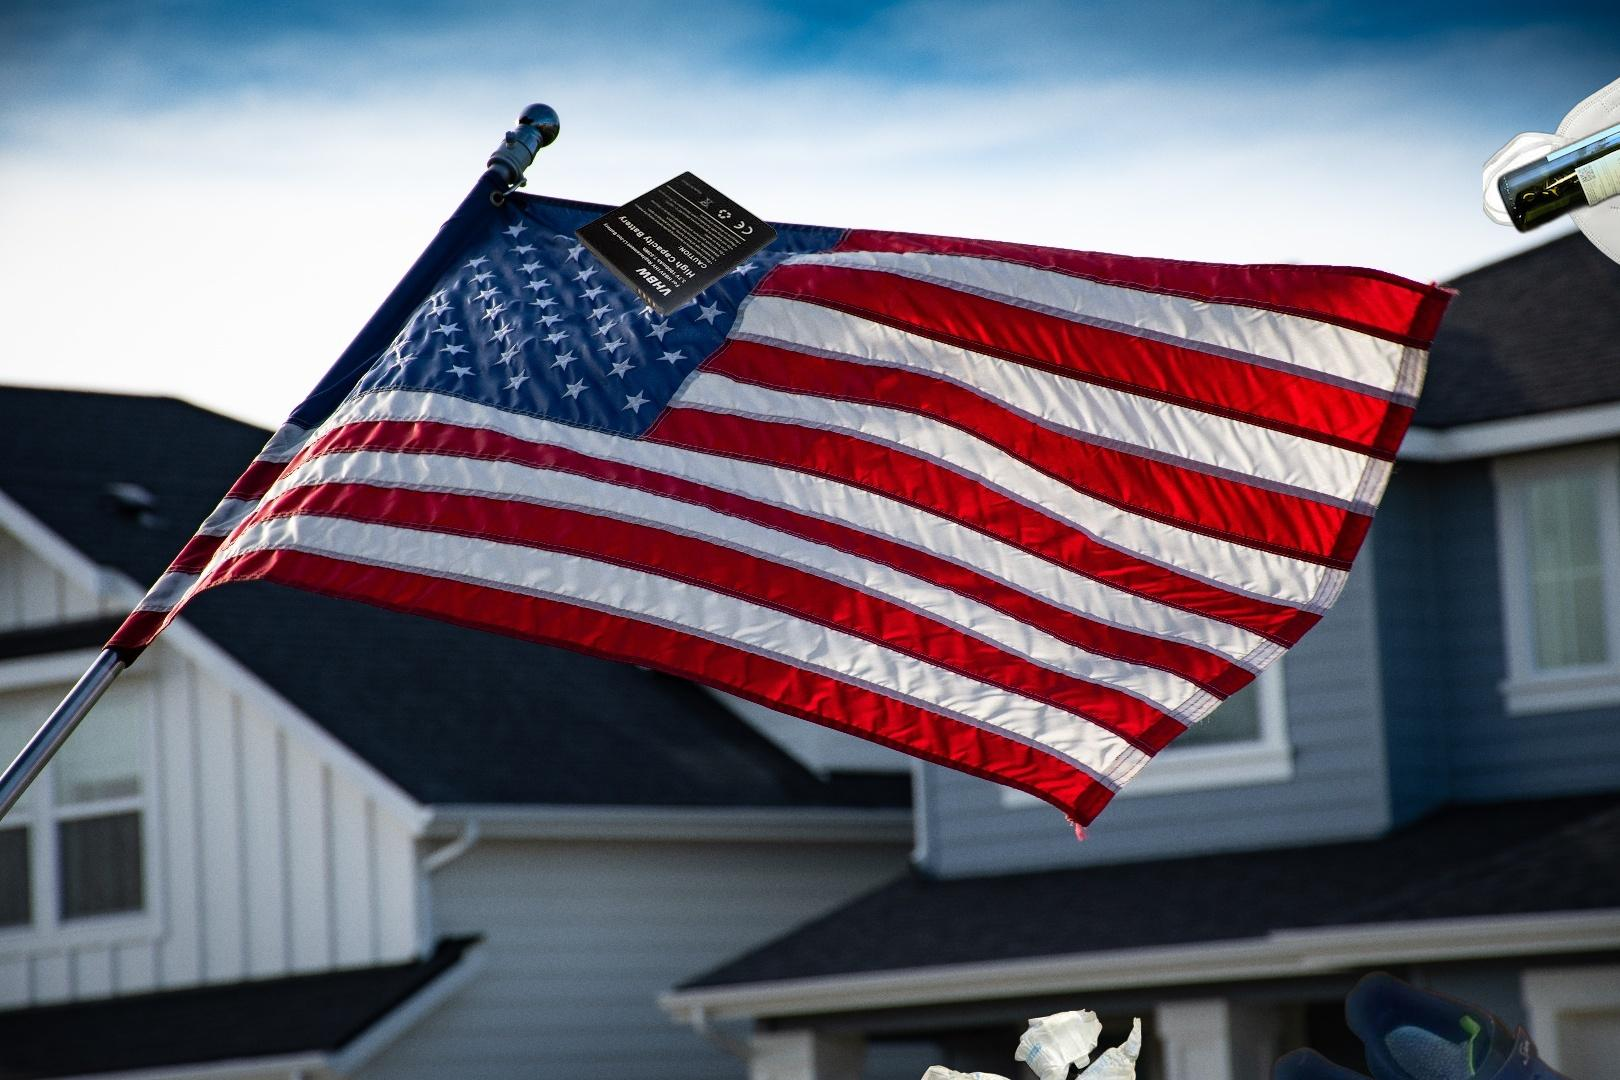battery: (571, 168, 780, 319)
glass: (1493, 88, 1620, 237)
shoes: (1254, 967, 1620, 1080)
trash: (1483, 57, 1620, 275), (915, 1006, 1145, 1080)
